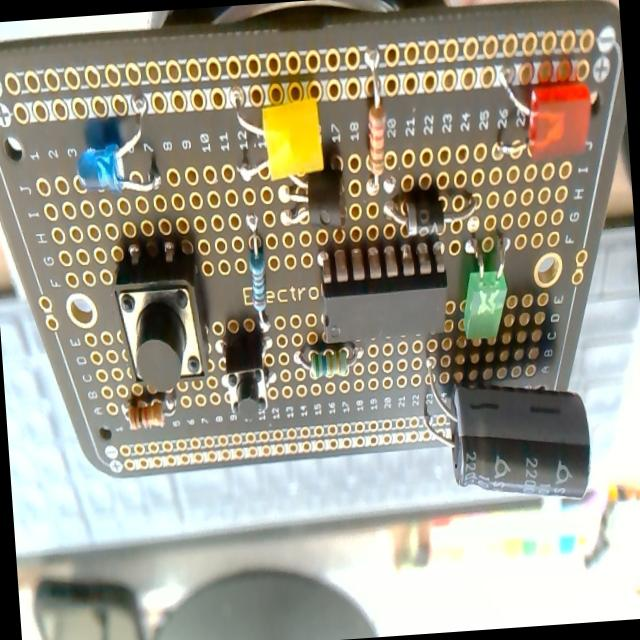Electrolytic capacitor: (417, 353, 601, 528)
IC: (316, 243, 454, 351)
diode: (381, 184, 478, 238)
led: (481, 63, 598, 171), (67, 104, 171, 210), (460, 242, 515, 348), (260, 94, 326, 182)
resistor: (354, 52, 392, 197), (111, 386, 190, 446), (294, 337, 362, 380), (245, 220, 271, 332)
switch: (110, 238, 210, 396), (218, 324, 275, 421)
transistor: (277, 157, 351, 233)
